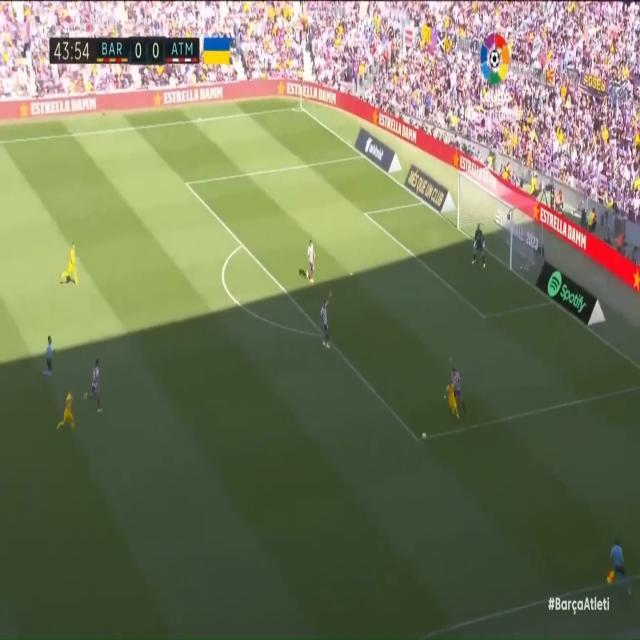ball: (420, 433, 430, 445)
goalkeeper: (467, 225, 491, 264)
player: (61, 240, 81, 300), (301, 235, 319, 291), (88, 352, 104, 415), (59, 385, 77, 429), (451, 365, 466, 416), (445, 377, 459, 423), (321, 295, 333, 341)
referee: (605, 533, 633, 602), (42, 323, 57, 377)
